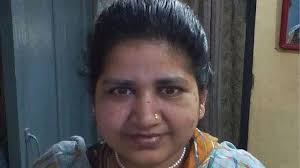indian_female: (74, 1, 223, 159)
